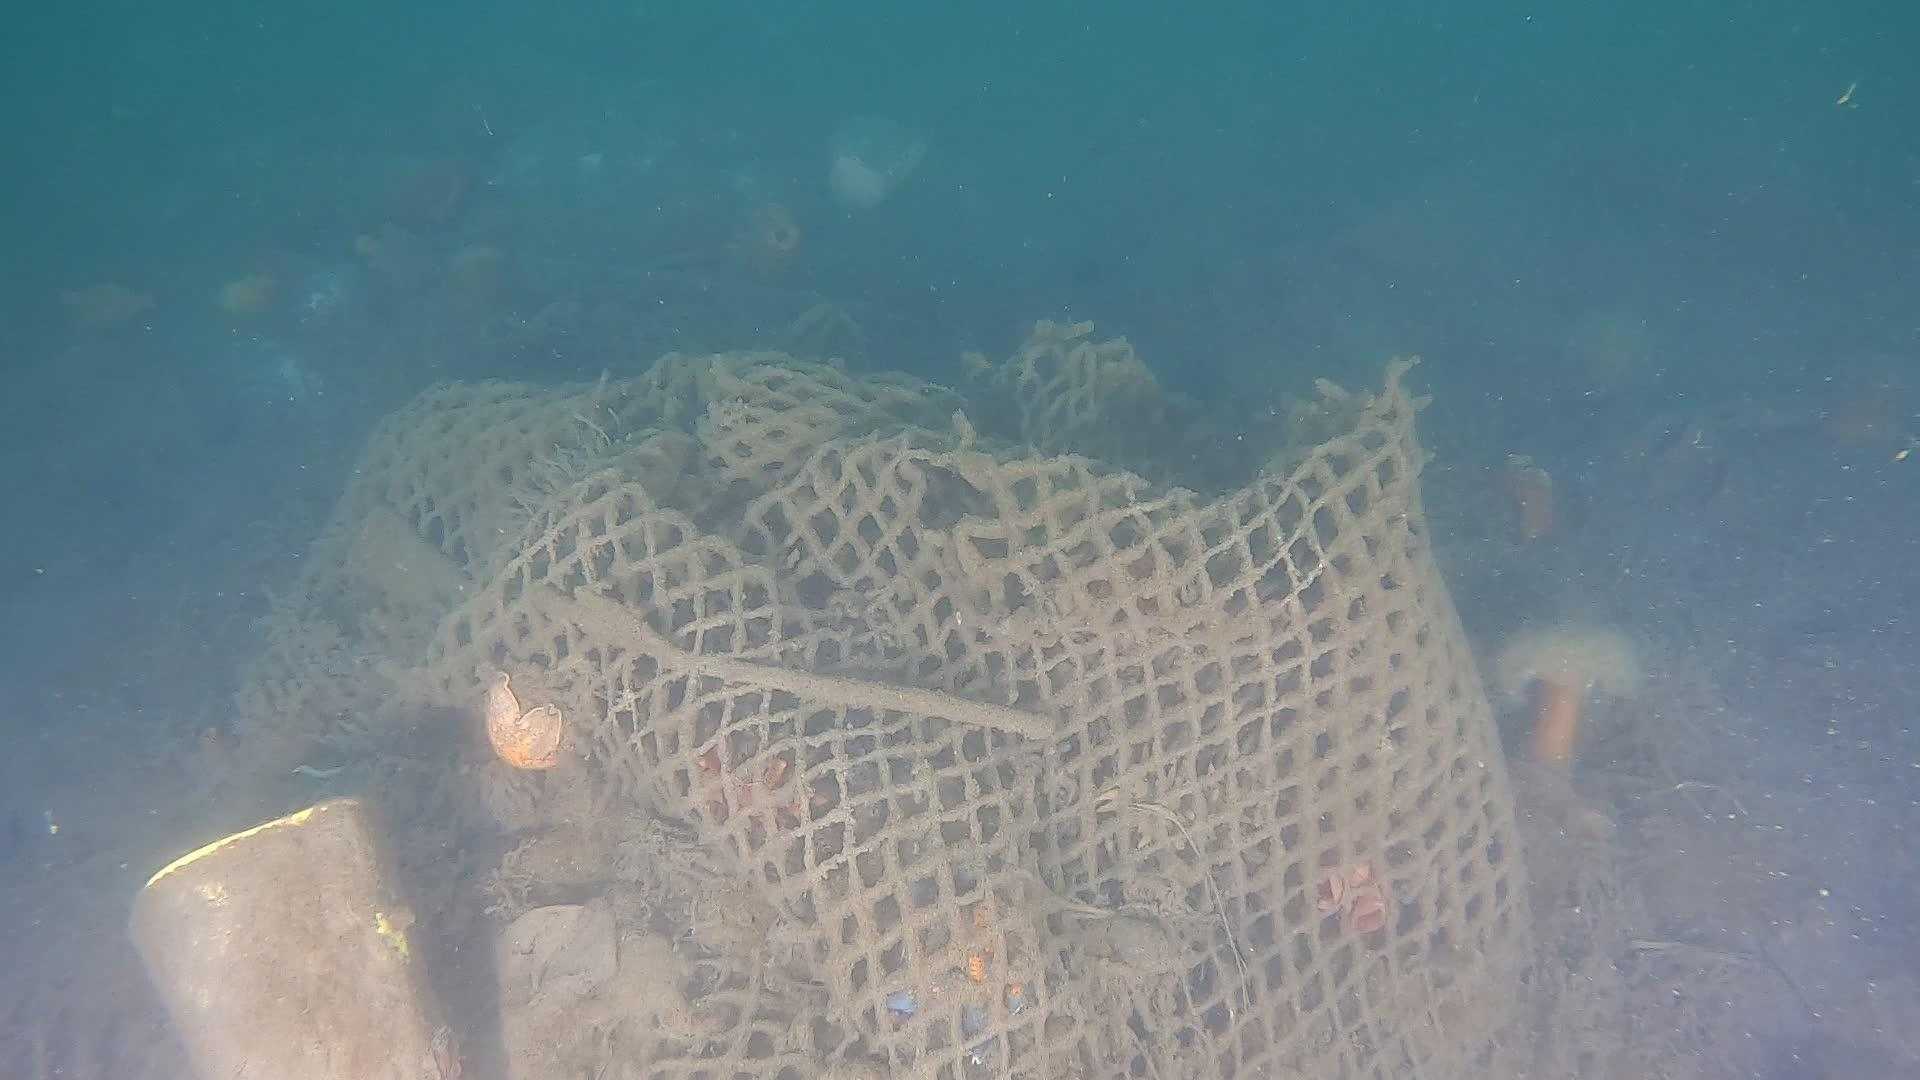fish net: (218, 313, 1548, 1080)
